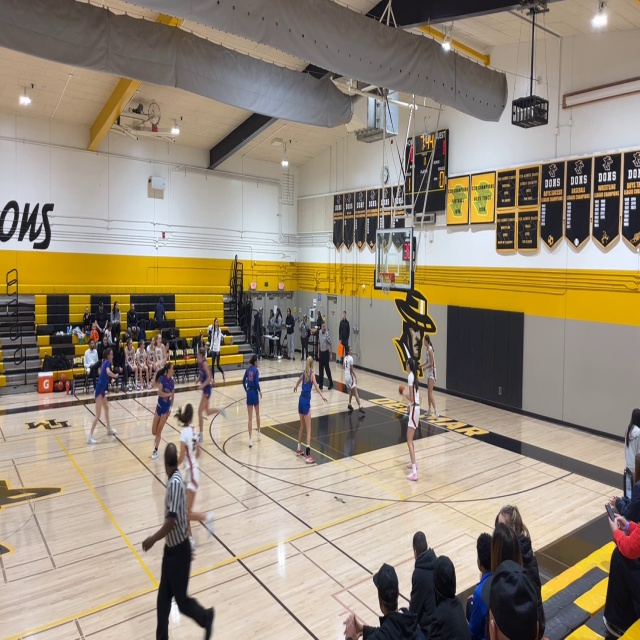Basketball: (398, 385, 405, 394)
